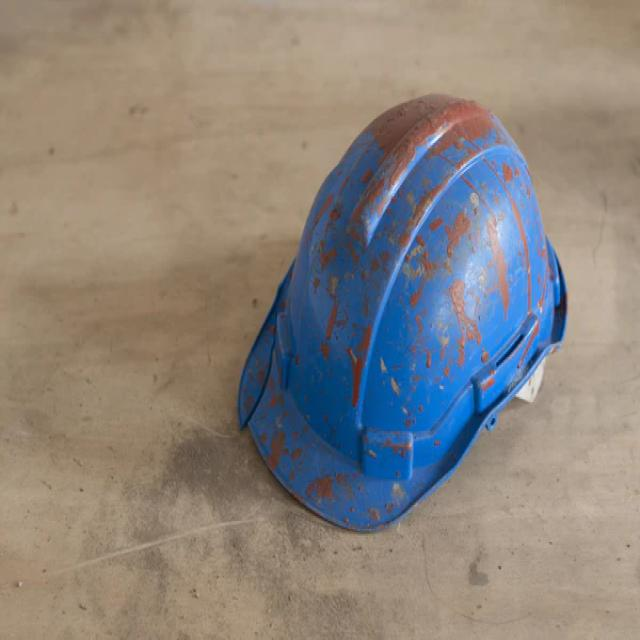BrokenHelmet: (230, 297, 287, 437)
